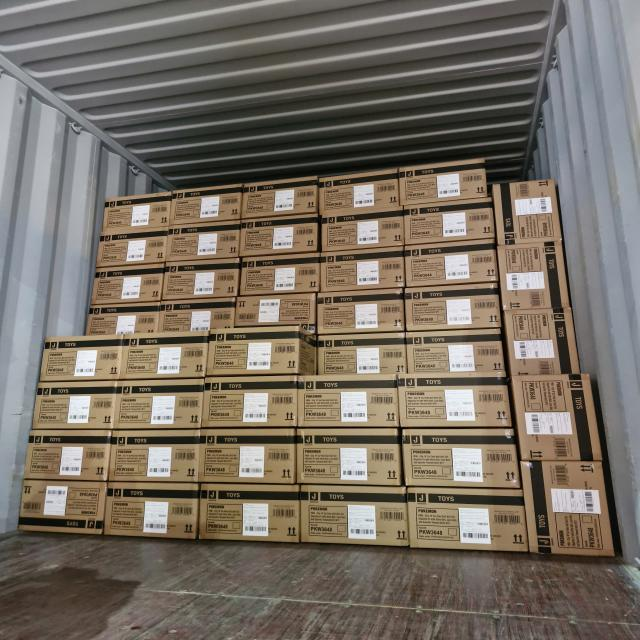Carton: (519, 461, 611, 558), (512, 374, 603, 463), (31, 390, 204, 432), (38, 340, 209, 382), (402, 429, 518, 488), (406, 499, 525, 555), (496, 240, 575, 311), (304, 500, 411, 550), (504, 309, 580, 379), (398, 383, 509, 430), (199, 437, 297, 487), (492, 177, 564, 245), (200, 496, 300, 544), (298, 442, 402, 488), (112, 435, 202, 486), (300, 387, 403, 431), (105, 494, 199, 542), (22, 480, 107, 533), (404, 335, 504, 379), (404, 294, 501, 336), (203, 386, 296, 429), (210, 337, 306, 377), (408, 249, 501, 290), (319, 297, 407, 339), (316, 340, 406, 380), (26, 443, 111, 484), (407, 208, 498, 245), (402, 172, 489, 210), (319, 256, 405, 293), (319, 180, 401, 218), (320, 216, 405, 252), (235, 296, 318, 330), (158, 296, 237, 331), (241, 221, 319, 256), (240, 262, 320, 296), (161, 266, 238, 301), (168, 226, 242, 262), (90, 270, 164, 306), (242, 187, 320, 220), (170, 193, 243, 227), (85, 301, 161, 333), (103, 201, 171, 235), (96, 236, 168, 268)
